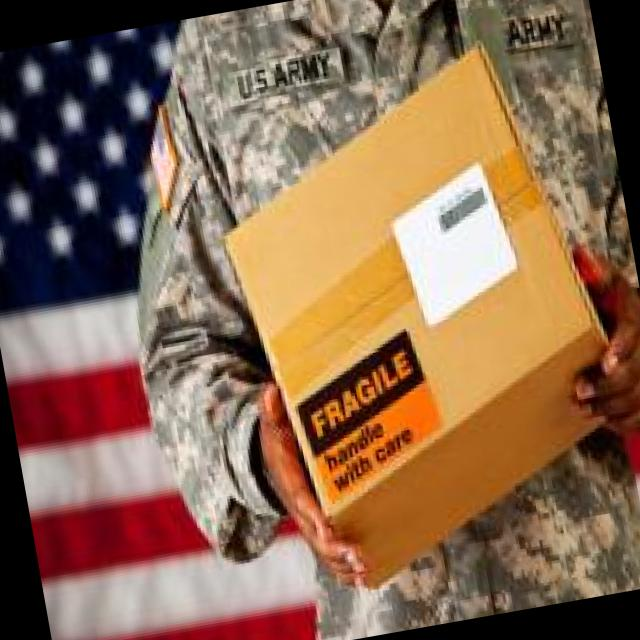box: (224, 38, 619, 590)
